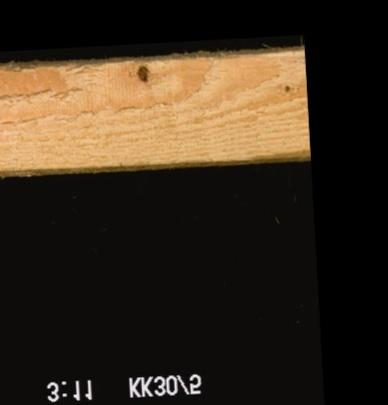dry_knot: (134, 62, 150, 85)
small_knot: (278, 81, 292, 94)
wave: (230, 149, 309, 162)
